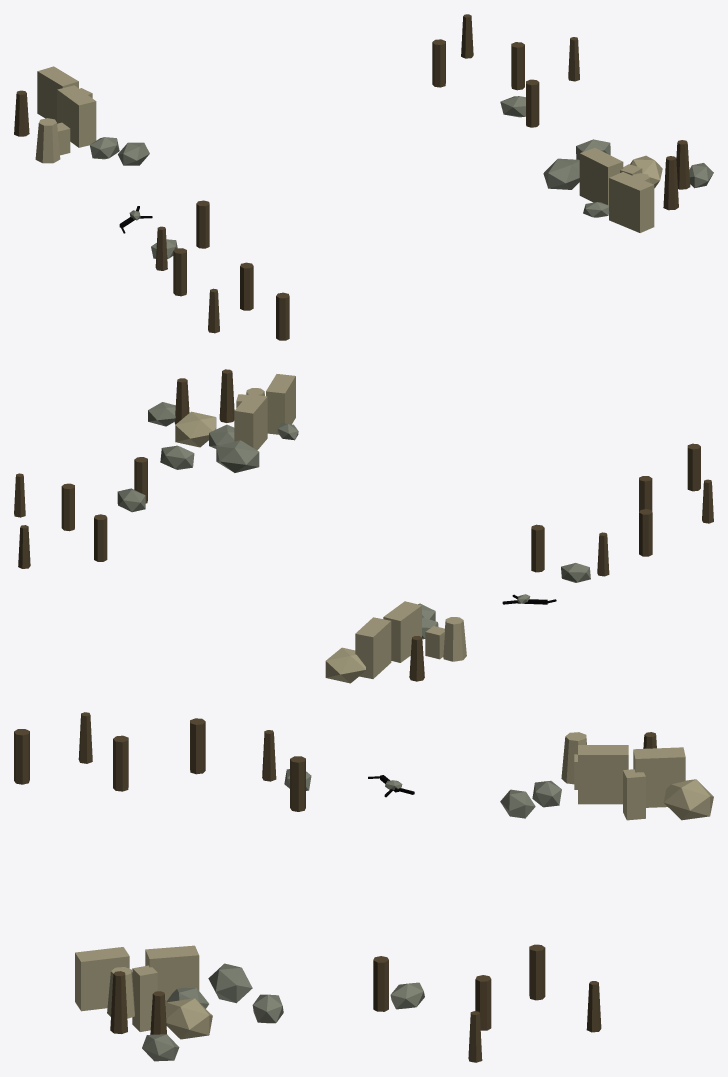
Rendered from overgrown_causeway_gate_solid_props.fbx.
3 views of the same model, one above another, from view 1: azimuth 30°, elevation 25°; view 2: azimuth 150°, elevation 25°; view 3: azimuth 270°, elevation 25° (orthographic). The views are drawn at different scales.
Visible parts, largest first — view 1: chunk_overgrown_causeway_gate__PropsSolid; view 2: chunk_overgrown_causeway_gate__PropsSolid; view 3: chunk_overgrown_causeway_gate__PropsSolid.
Part boxes in pixels (x1,y1,x2,y2): chunk_overgrown_causeway_gate__PropsSolid: (14,14,713,340); chunk_overgrown_causeway_gate__PropsSolid: (14,369,713,683); chunk_overgrown_causeway_gate__PropsSolid: (14,712,713,1062).
Size of the model in its own units: 186 by 21.3 by 180.
